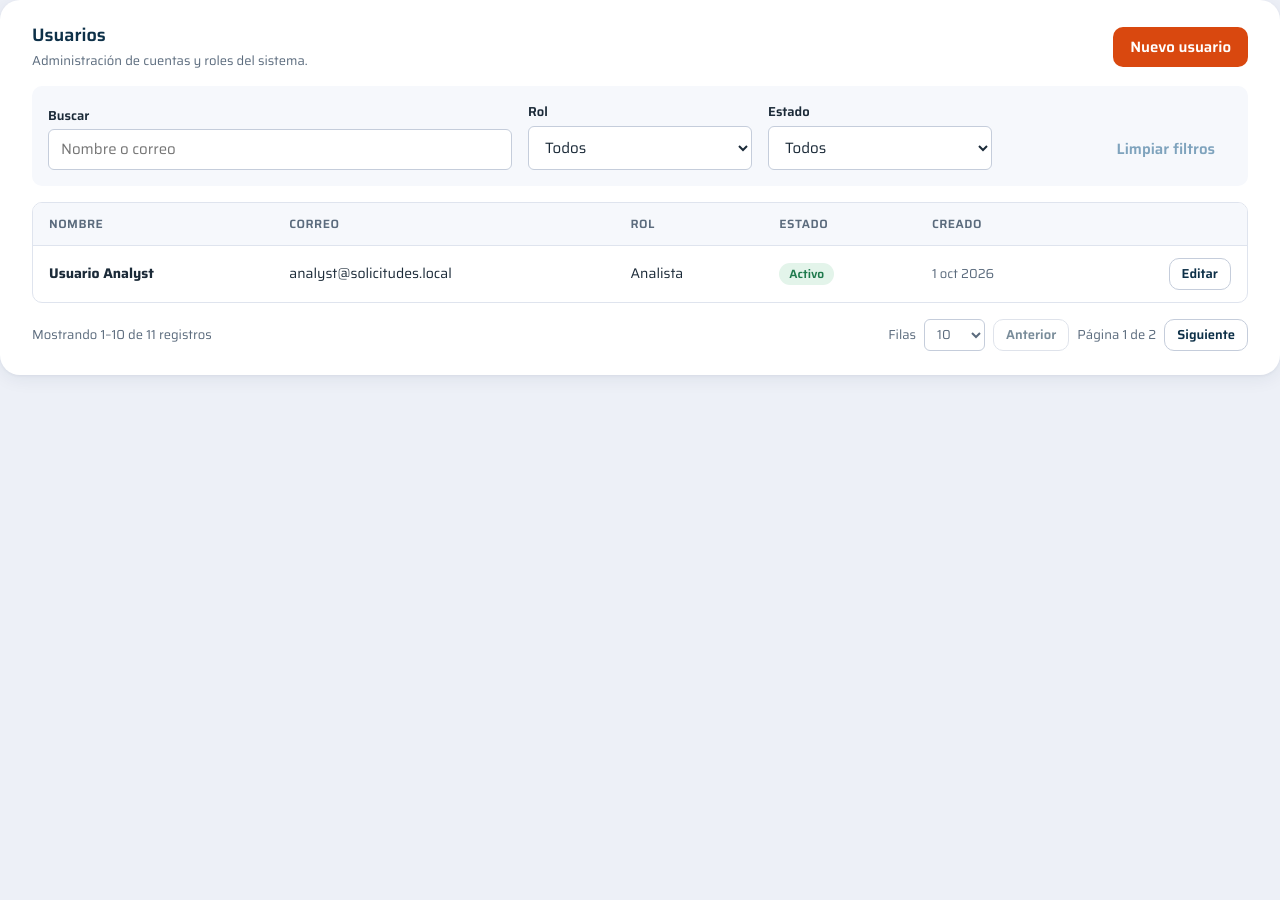
UsersPage › crea un usuario desde el diálogo y lo cierra
Click the button "Nuevo usuario" at {"x": 1181, "y": 47}, box [1113,27,1248,67]
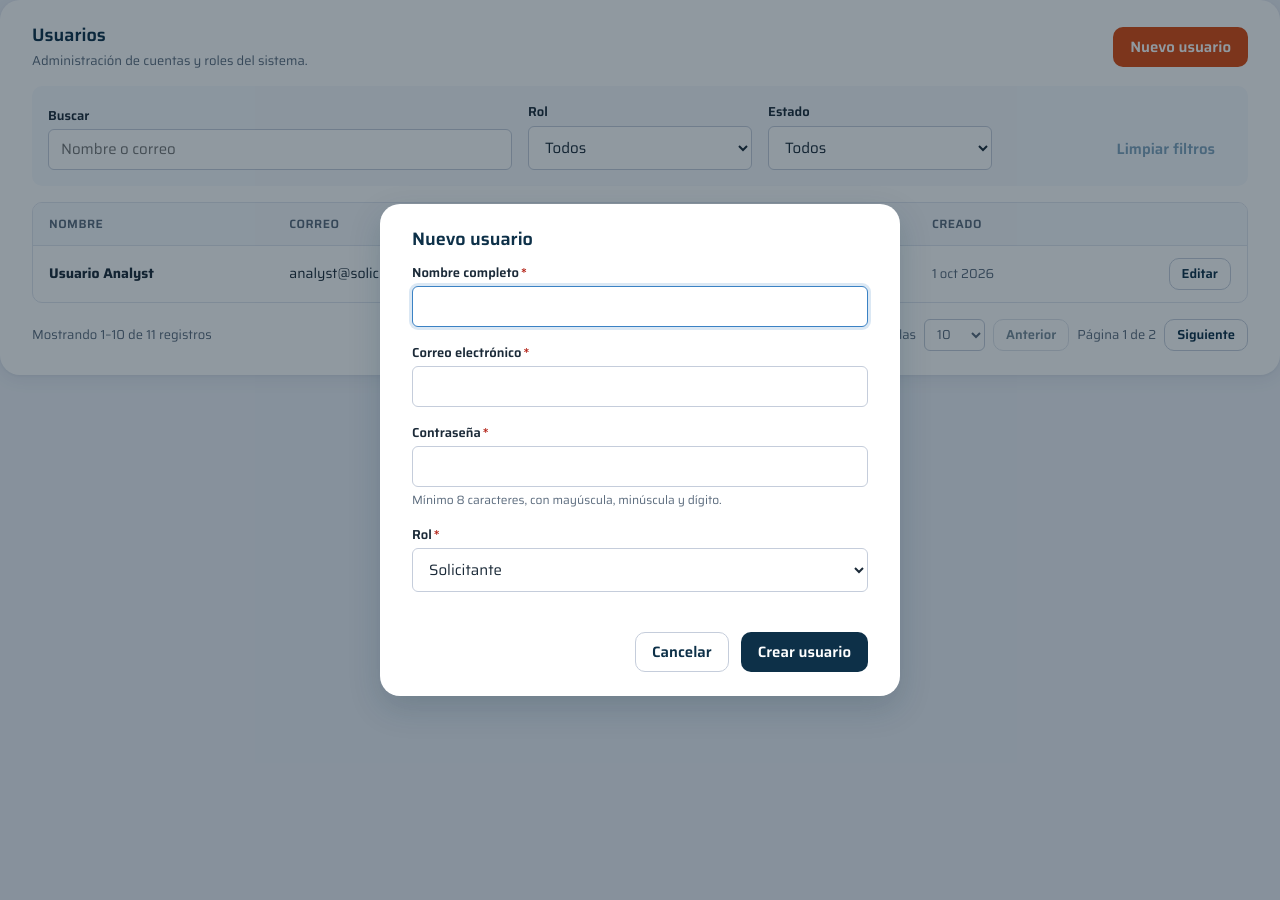
Type "Laura Gómez" into the field labelled "Nombre completo*" at {"x": 640, "y": 306}, box [412,286,868,326]
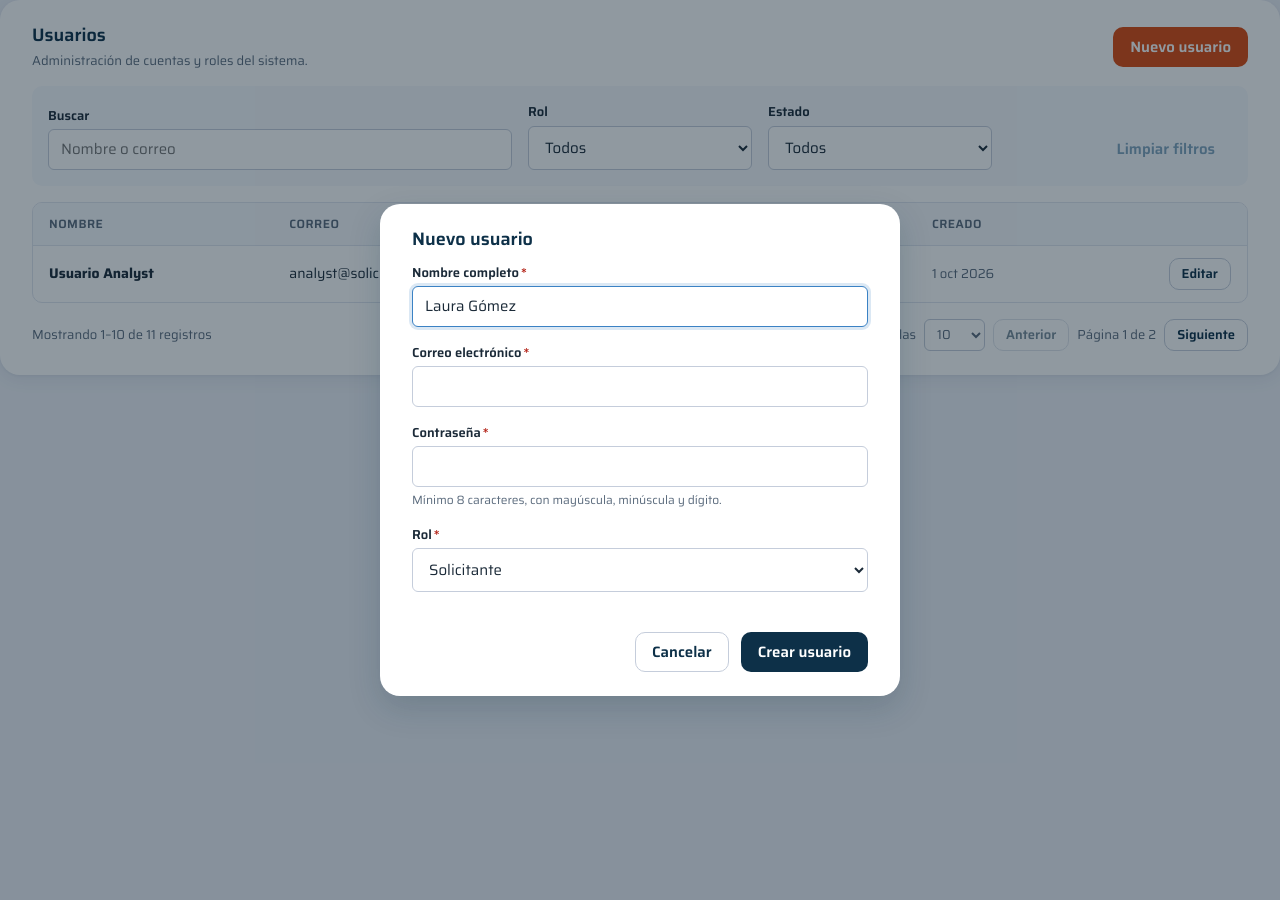
Type "laura.gomez@solicitudes.local" into the field labelled "Correo electrónico*" at {"x": 640, "y": 386}, box [412,366,868,406]
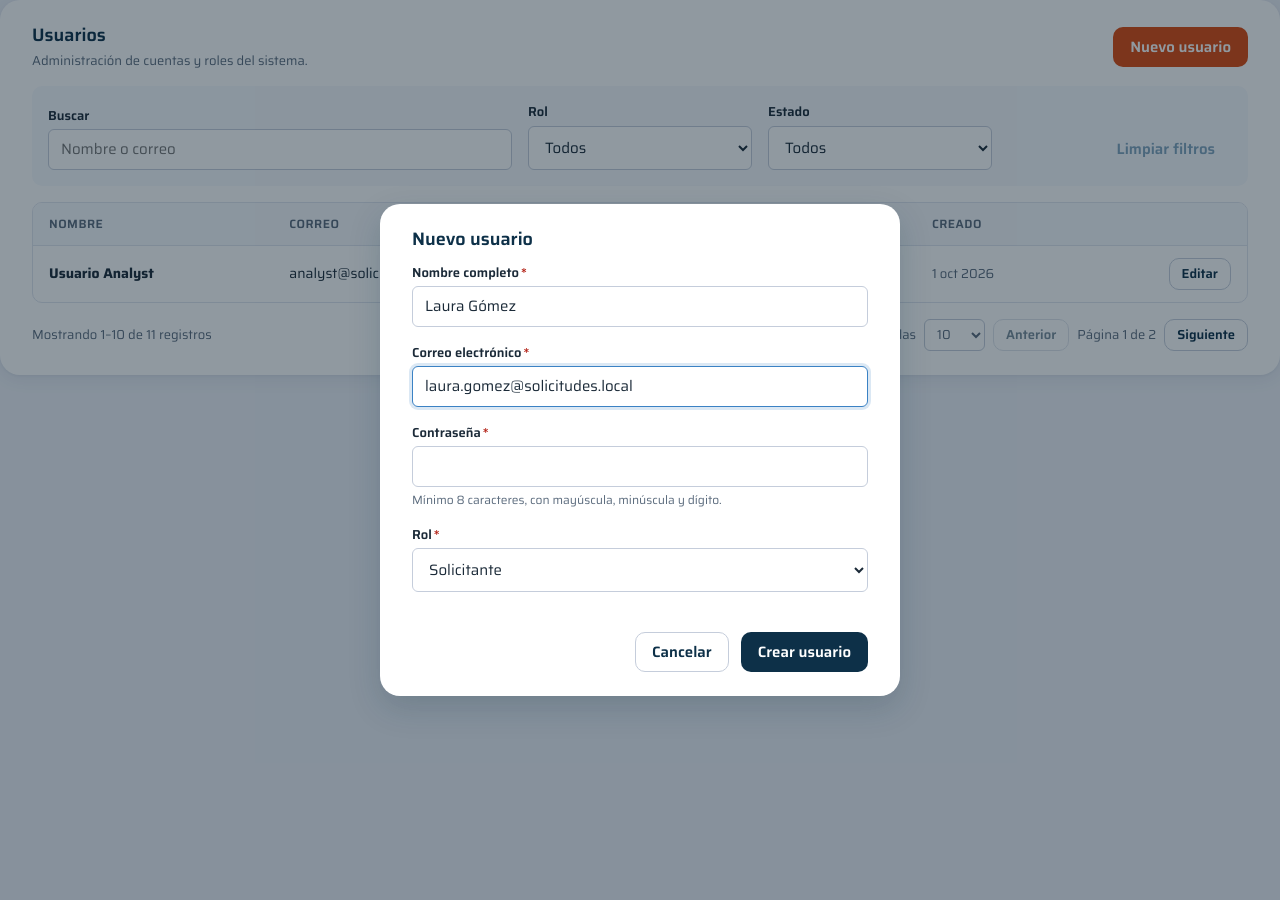
Type "Segura2026" into the password field labelled "Contraseña*" at {"x": 640, "y": 466}, box [412,446,868,486]
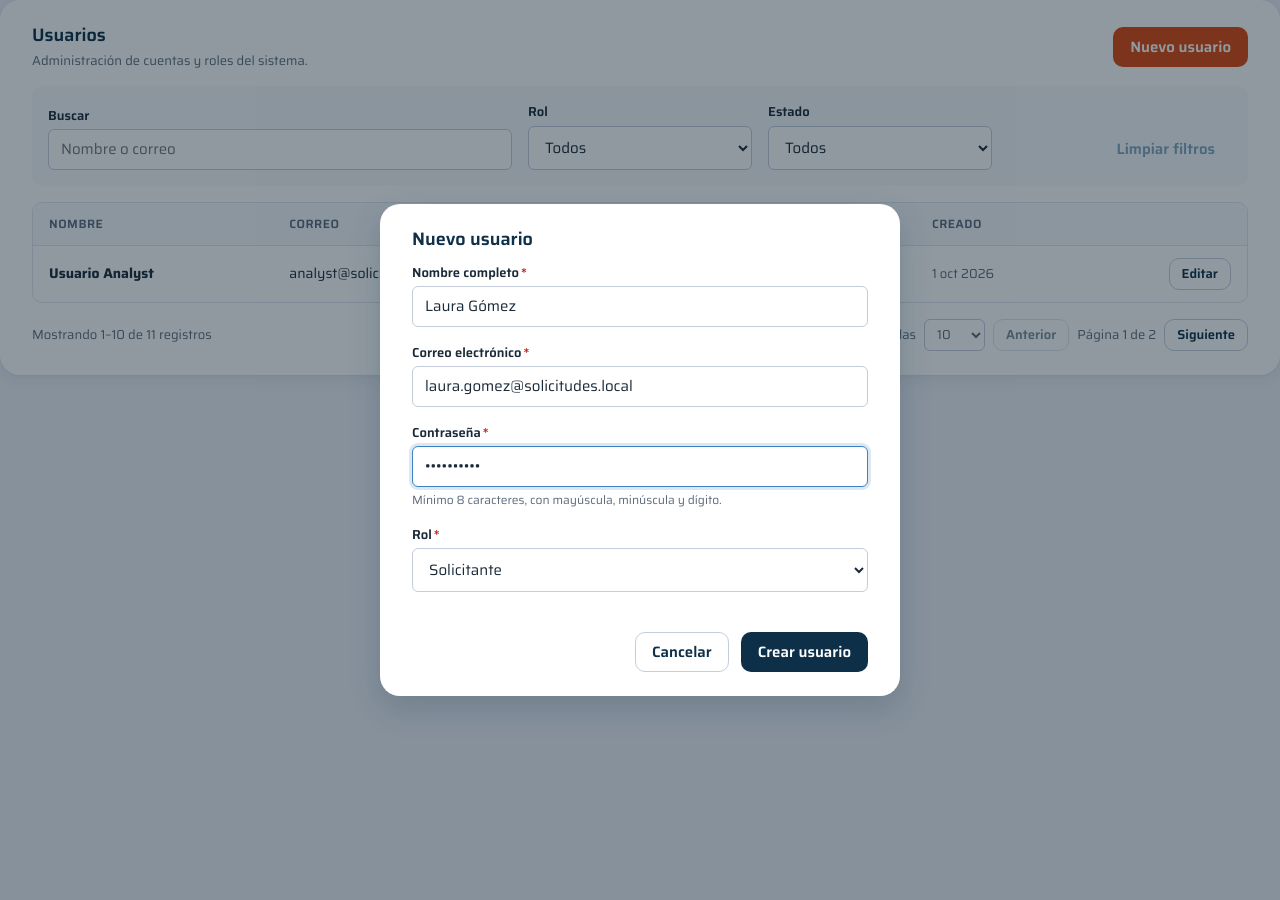
Select "Analista" in the dropdown labelled "Rol*" at {"x": 640, "y": 570}, box [412,548,868,592]
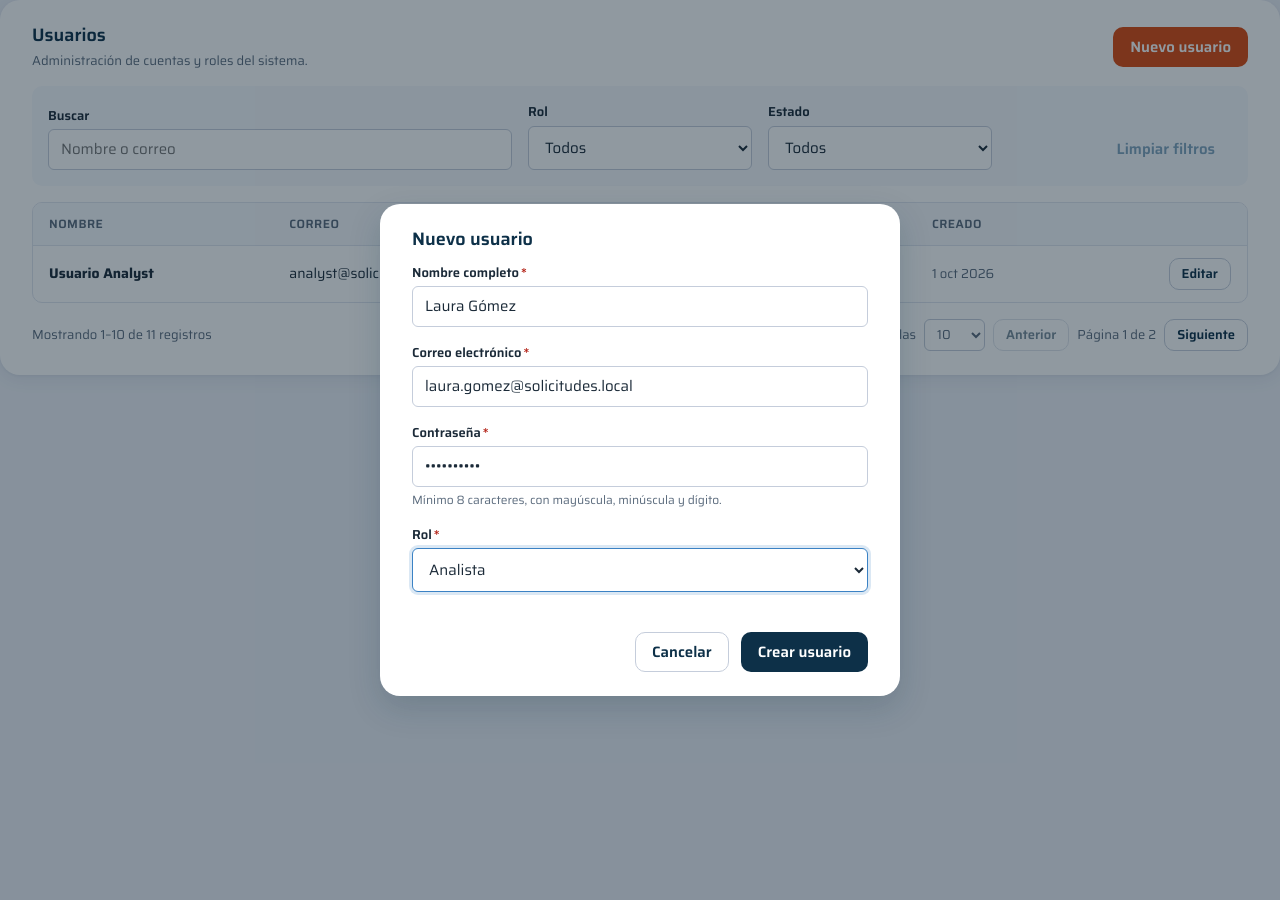
Click the button "Crear usuario" at {"x": 804, "y": 652}, box [741,632,868,672]
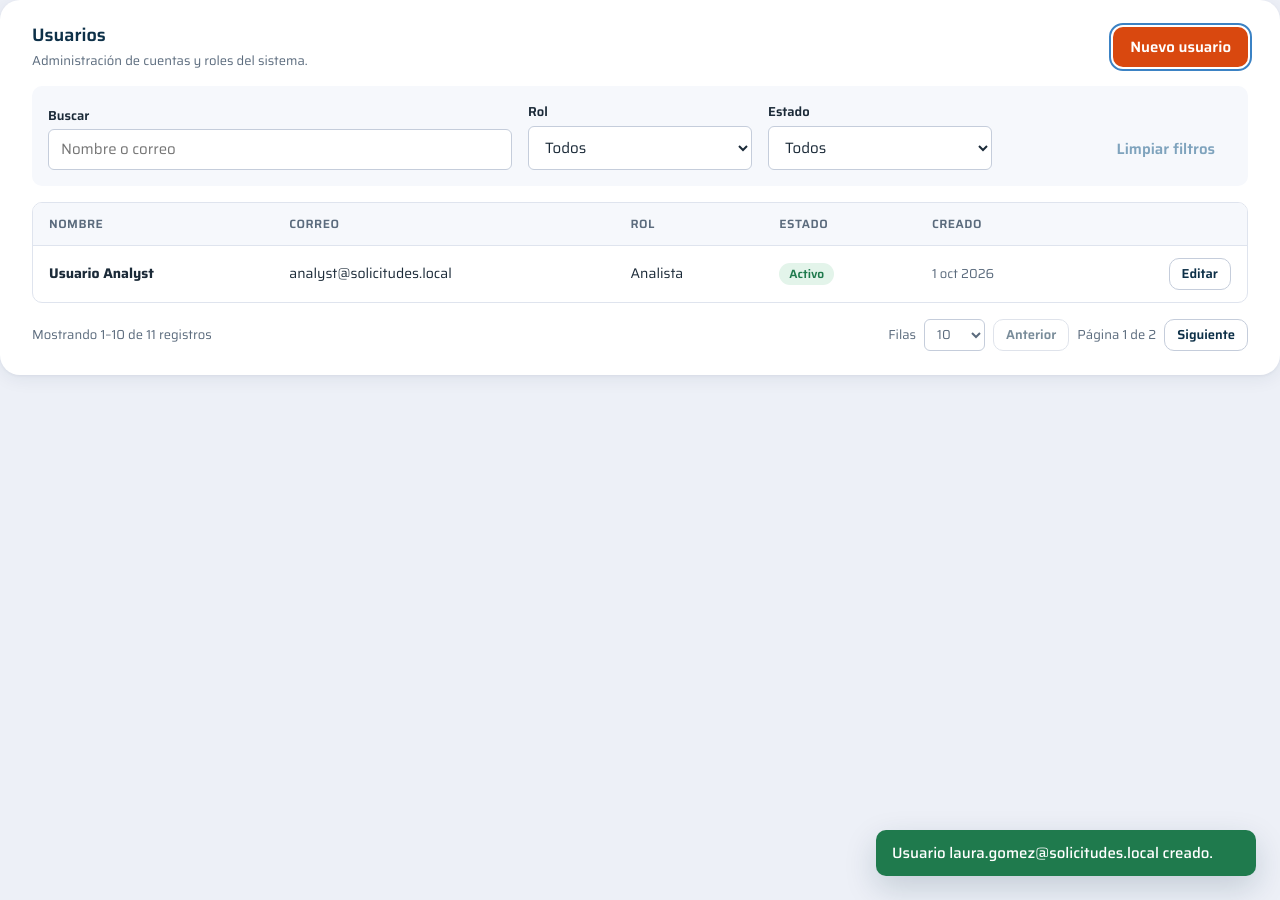
Expected: the dialog is gone
